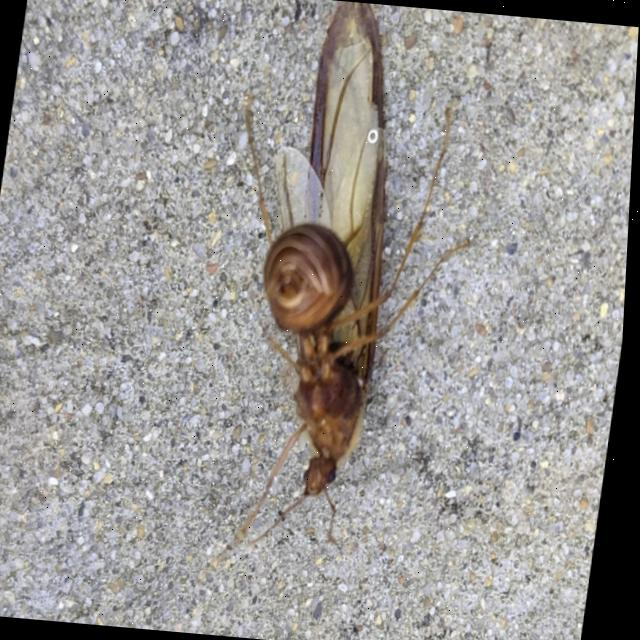Alive-Male-Alate: (186, 0, 502, 578)
